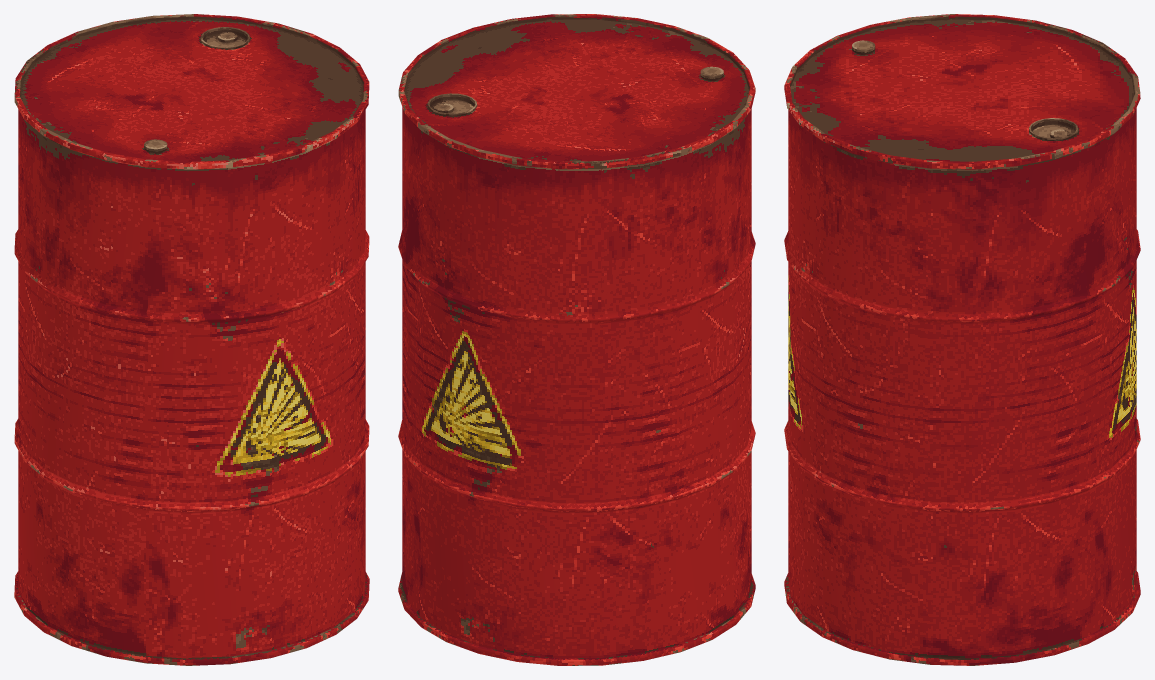
Rendered from Barrel_01.glb.
3 renders of one model, left to right at view 1: azimuth 30°, elevation 25°; view 2: azimuth 150°, elevation 25°; view 3: azimuth 270°, elevation 25°, orthographic.
Parts seen in each view (by area): view 1: mesh; view 2: mesh; view 3: mesh.
Boxes of the visible parts, box(x1,y1,x2,y2) form: mesh: box(14, 14, 369, 665); mesh: box(398, 14, 755, 665); mesh: box(784, 14, 1140, 665).
Size of the model in its own units: 22.52 by 35.2 by 22.52.
Materials: 1 (1 with a texture image).
